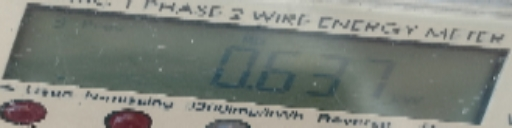0: (213, 42, 256, 88)
5: (309, 47, 346, 103)
6: (257, 42, 299, 97)
7: (363, 50, 393, 103)
d: (246, 80, 254, 94)
